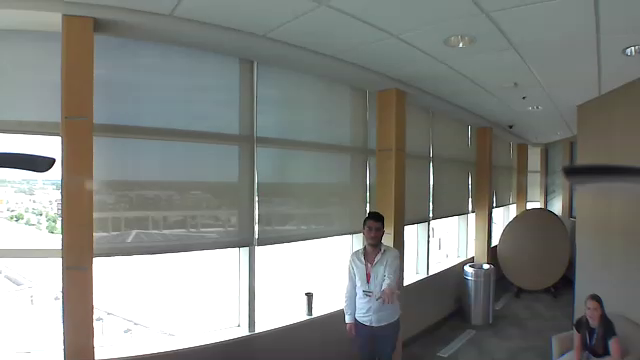land: (367, 279, 418, 313)
